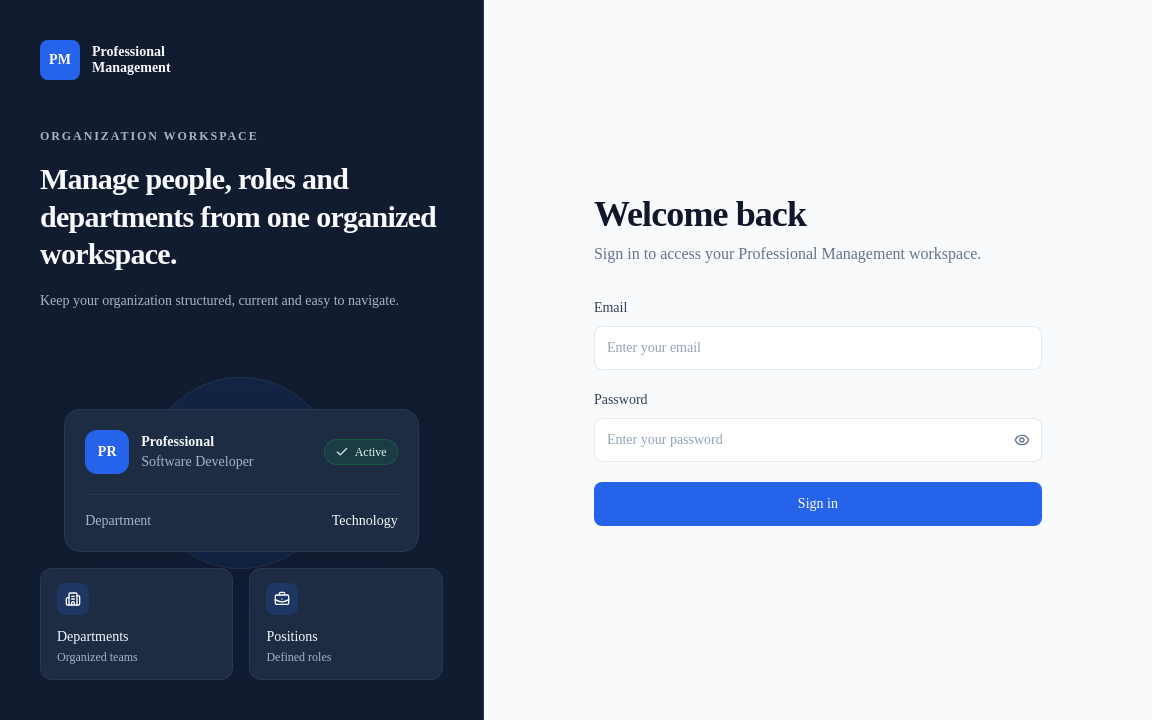
Test case: LoginForm › shows the credential error and preserves the form
Type "admin@example.test" into the field labelled "Email" at (818,348), box [594, 326, 1042, 370]
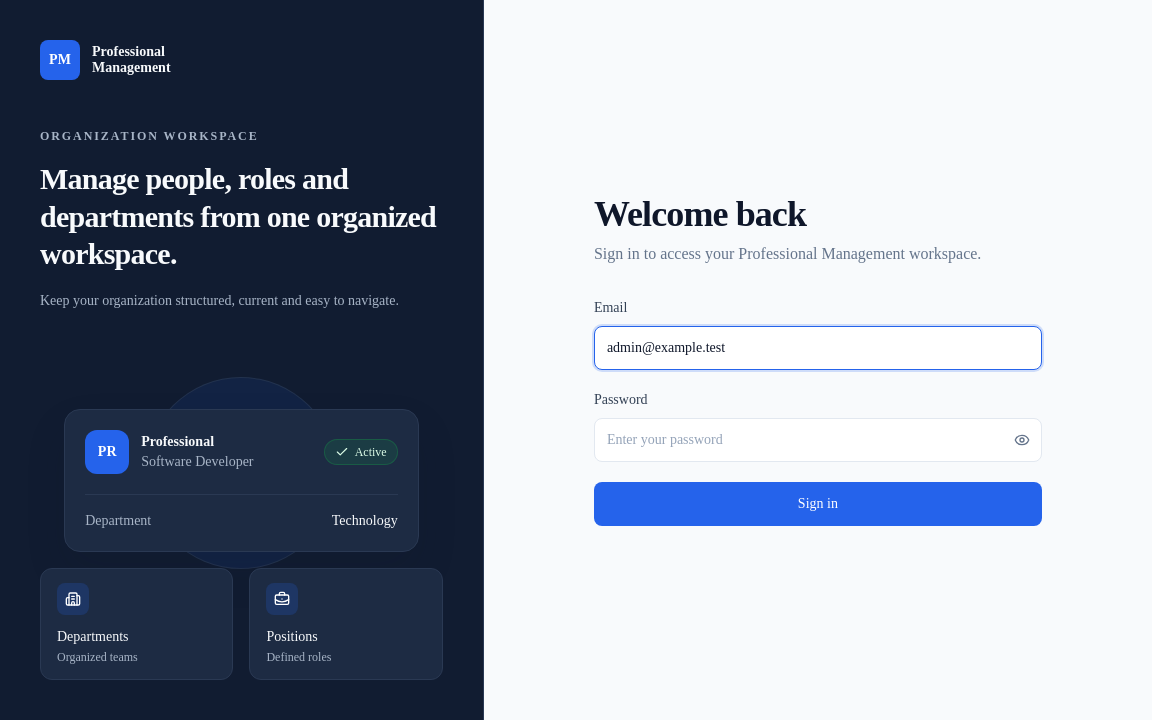
Type "wrong-password" into the password field labelled "Password" at (818,440), box [594, 418, 1042, 462]
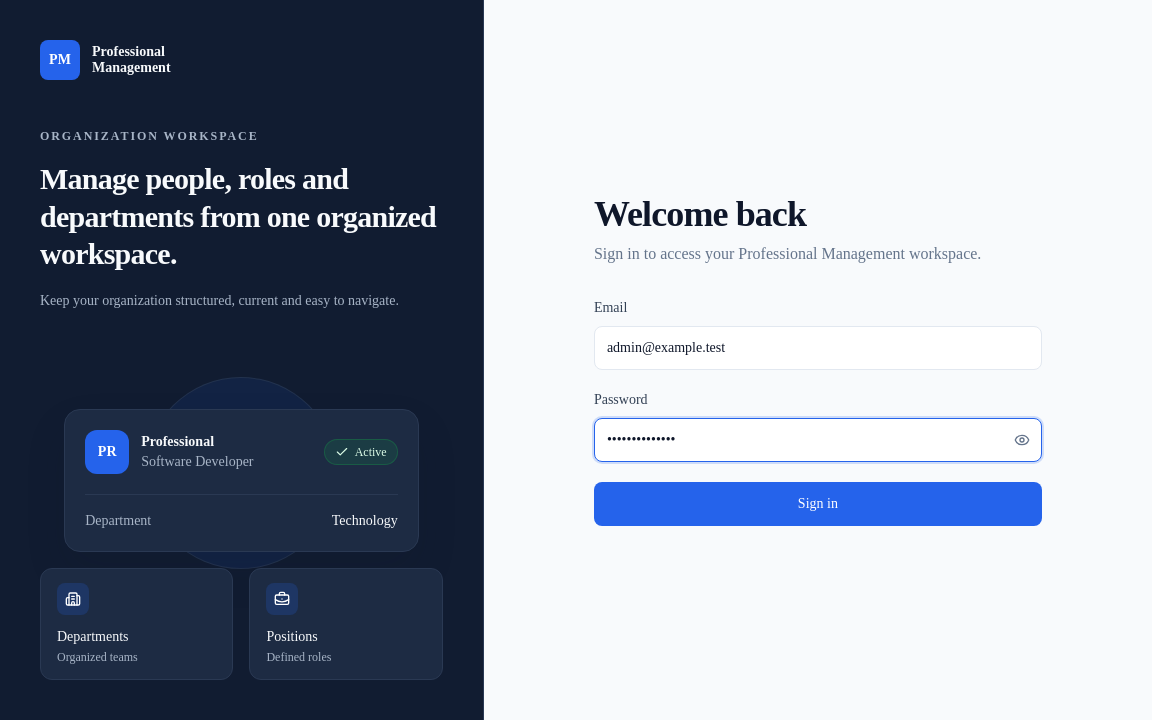
Click the button "Sign in" at (818,504), box [594, 482, 1042, 526]
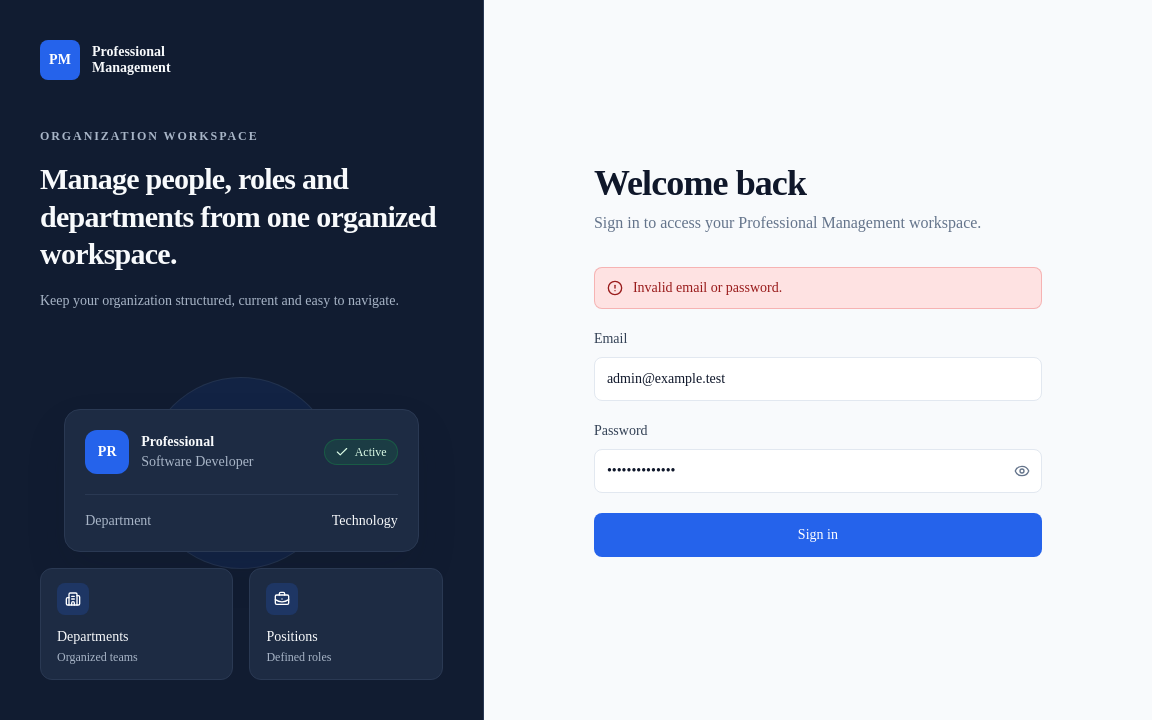
Expected: the message reads "Invalid email or password.", [633, 280, 782, 295]
